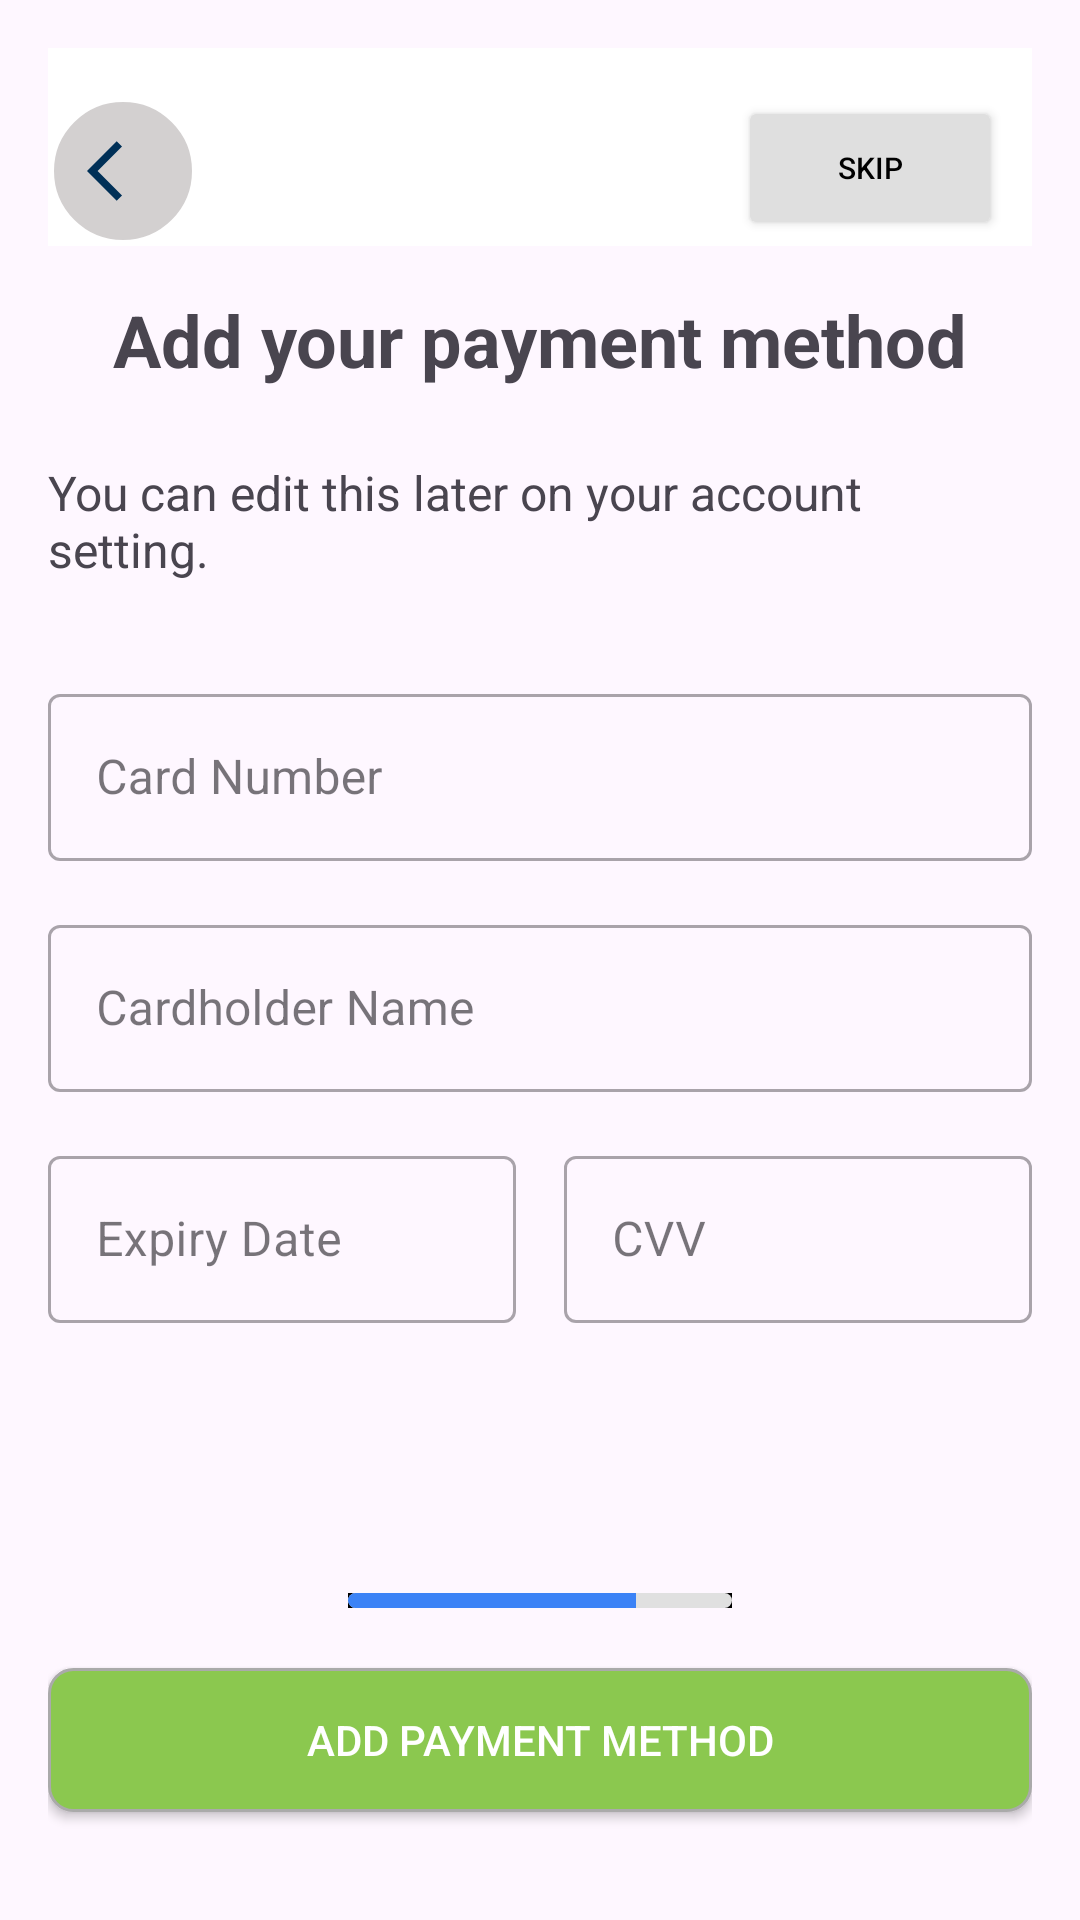

Icon bounding boxes for this 1080w x 1920h phone screenshot, format (x1, y1, x2, y2):
arrow back: (54, 102, 192, 240)
